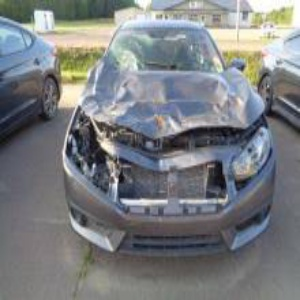bonnet: (84, 67, 263, 138)
